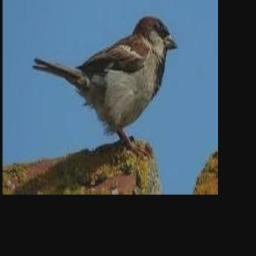Sparrow: (32, 16, 177, 158)
